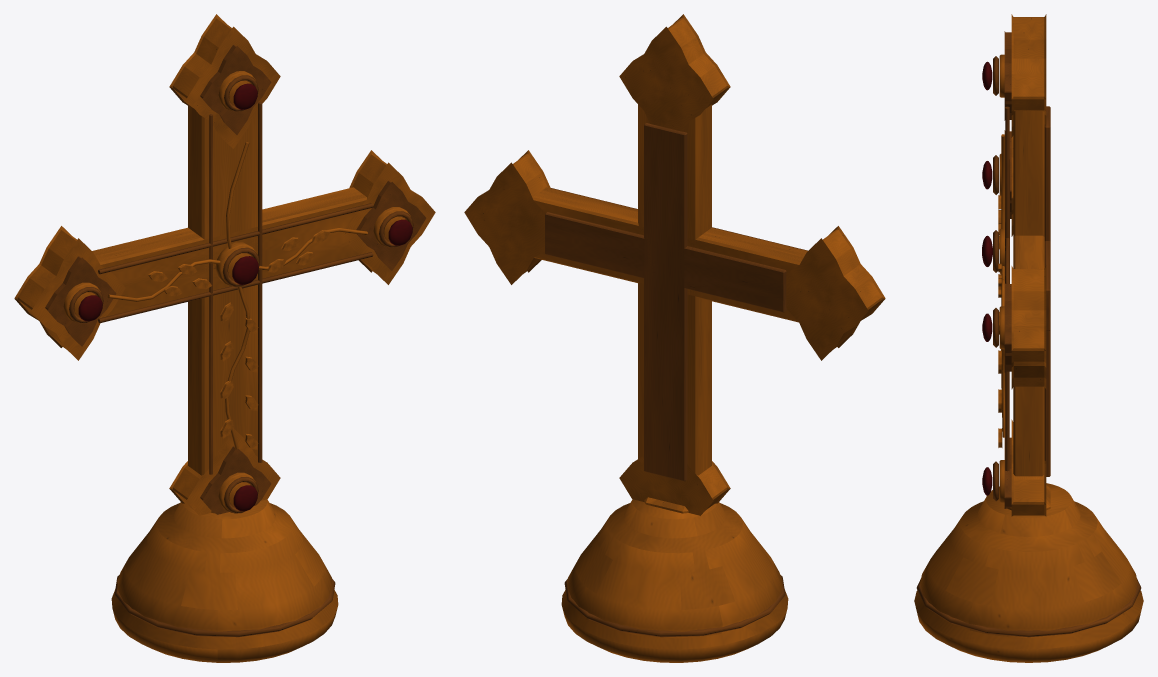
Rendered from ornate_gold_cross_LOD1.glb.
The picture shows the model from 3 angles, left to right: view 1: azimuth 30°, elevation 25°; view 2: azimuth 150°, elevation 25°; view 3: azimuth 270°, elevation 25°; orthographic projection.
Visible parts, largest first — view 1: Integrated ornate cross foot, Continuous vertical arm, Continuous horizontal arm, Pointed Gothic terminal 2, Pointed Gothic terminal 0, Pointed Gothic terminal 3, Pointed Gothic terminal 1, Terminal inset molding 0, Terminal inset molding 2, Terminal inset molding 3, Vertical edge molding, Terminal inset molding 1 (+8 smaller); view 2: Integrated ornate cross foot, Inferred rear vertical inset, Continuous vertical arm, Inferred rear horizontal inset, Pointed Gothic terminal 2, Pointed Gothic terminal 0, Continuous horizontal arm, Pointed Gothic terminal 3, Pointed Gothic terminal 1, Foot stepped molding; view 3: Integrated ornate cross foot, Continuous vertical arm, Pointed Gothic terminal 3, Pointed Gothic terminal 0, Inferred rear vertical inset, Pointed Gothic terminal 1, Foot stepped molding, Vertical edge molding, Continuous horizontal arm, Vertical botanical vine, Terminal inset molding 3, Terminal inset molding 0 (+2 smaller).
Part boxes in pixels (x1=…): Integrated ornate cross foot: x1=111, y1=499, x2=338, y2=662; Continuous vertical arm: x1=188, y1=104, x2=257, y2=475; Continuous horizontal arm: x1=92, y1=187, x2=366, y2=316; Pointed Gothic terminal 2: x1=14, y1=226, x2=125, y2=360; Pointed Gothic terminal 0: x1=169, y1=14, x2=280, y2=148; Pointed Gothic terminal 3: x1=341, y1=150, x2=435, y2=284; Pointed Gothic terminal 1: x1=169, y1=429, x2=280, y2=515; Terminal inset molding 0: x1=200, y1=44, x2=271, y2=134; Terminal inset molding 2: x1=45, y1=256, x2=116, y2=346; Terminal inset molding 3: x1=356, y1=180, x2=426, y2=270; Vertical edge molding: x1=258, y1=101, x2=262, y2=462; Terminal inset molding 1: x1=200, y1=446, x2=271, y2=514; Integrated ornate cross foot: x1=561, y1=499, x2=788, y2=662; Inferred rear vertical inset: x1=644, y1=123, x2=687, y2=481; Continuous vertical arm: x1=638, y1=104, x2=711, y2=475; Inferred rear horizontal inset: x1=545, y1=212, x2=786, y2=312; Pointed Gothic terminal 2: x1=786, y1=226, x2=885, y2=360; Pointed Gothic terminal 0: x1=619, y1=14, x2=730, y2=131; Continuous horizontal arm: x1=533, y1=187, x2=807, y2=322; Pointed Gothic terminal 3: x1=464, y1=150, x2=550, y2=284; Pointed Gothic terminal 1: x1=619, y1=456, x2=730, y2=515; Foot stepped molding: x1=564, y1=575, x2=785, y2=637; Integrated ornate cross foot: x1=914, y1=483, x2=1143, y2=662; Continuous vertical arm: x1=1013, y1=111, x2=1044, y2=476; Pointed Gothic terminal 3: x1=1011, y1=266, x2=1046, y2=389; Pointed Gothic terminal 0: x1=1011, y1=14, x2=1046, y2=137; Inferred rear vertical inset: x1=1044, y1=106, x2=1050, y2=476; Pointed Gothic terminal 1: x1=1011, y1=419, x2=1046, y2=516; Foot stepped molding: x1=916, y1=579, x2=1141, y2=637; Vertical edge molding: x1=1005, y1=106, x2=1009, y2=471; Continuous horizontal arm: x1=1013, y1=235, x2=1044, y2=268; Vertical botanical vine: x1=1001, y1=134, x2=1005, y2=437; Terminal inset molding 3: x1=1004, y1=283, x2=1011, y2=372; Terminal inset molding 0: x1=1004, y1=31, x2=1011, y2=120.
Size of the model in its own units: 0.3288 by 0.4678 by 0.16.
3 materials, 3 textured.
